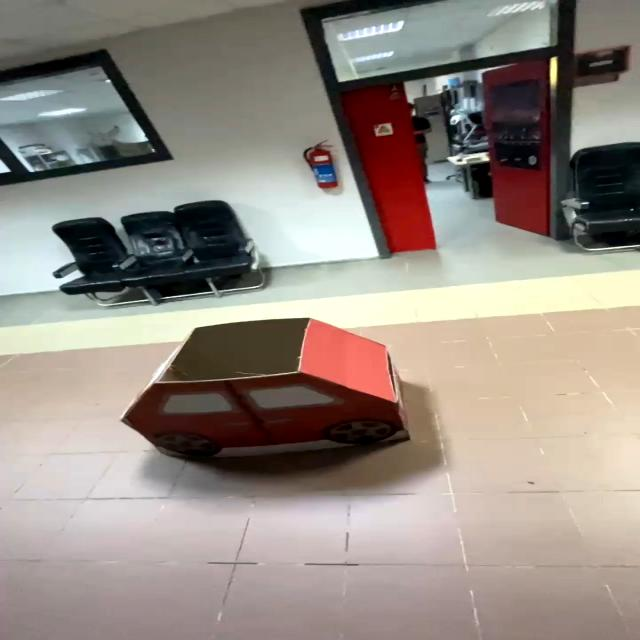red_car: (89, 311, 480, 499)
